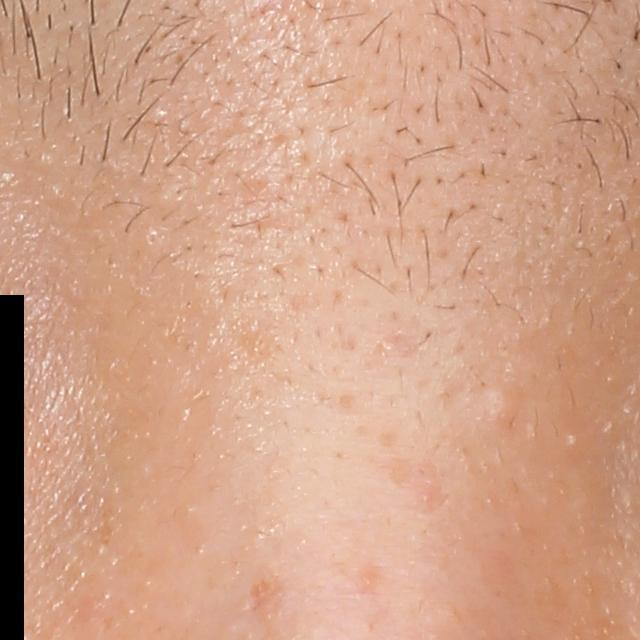comedo: (477, 382, 522, 435)
